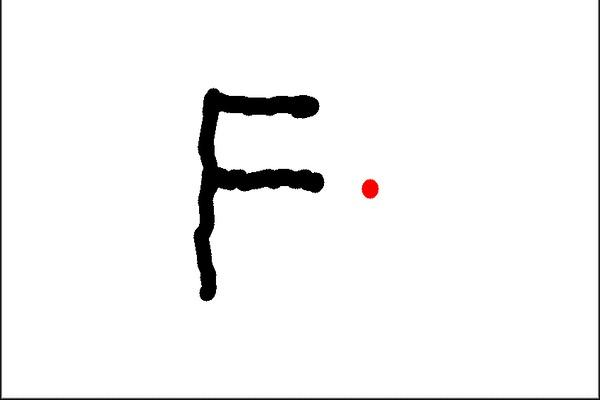F: (189, 83, 328, 304)
